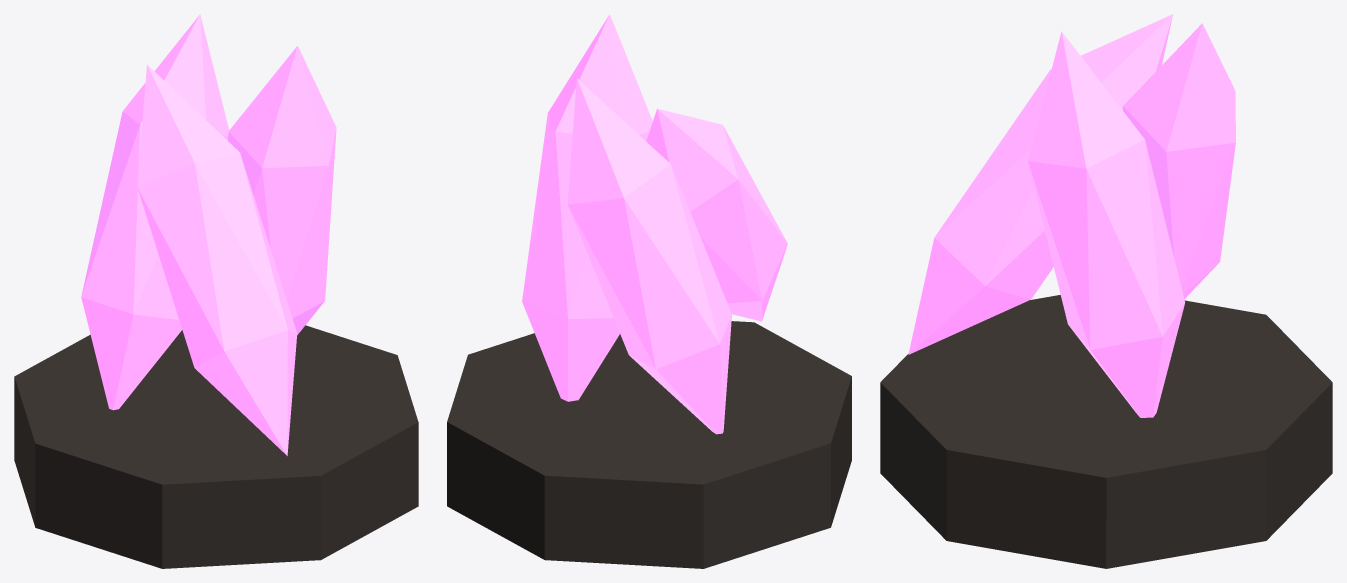
Rendered from Prop_BossCore_C.fbx.
3 renders of one model, left to right at view 1: azimuth 30°, elevation 25°; view 2: azimuth 150°, elevation 25°; view 3: azimuth 270°, elevation 25°, orthographic. The views are drawn at different scales.
Parts seen in each view (by area): view 1: Prop_BossCore_C; view 2: Prop_BossCore_C; view 3: Prop_BossCore_C.
Part boxes in pixels (<box>): Prop_BossCore_C: <box>14,14,418,568</box>; Prop_BossCore_C: <box>447,14,851,568</box>; Prop_BossCore_C: <box>880,14,1332,568</box>.
Bounding box in the file's own units: 0.09 × 0.1041 × 0.09.
